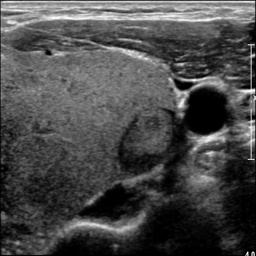mass: (120, 106, 173, 171)
